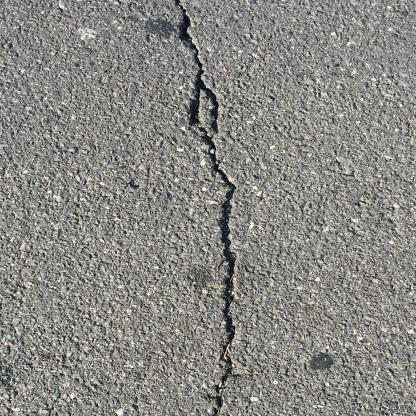Cracks: (108, 0, 241, 416)
